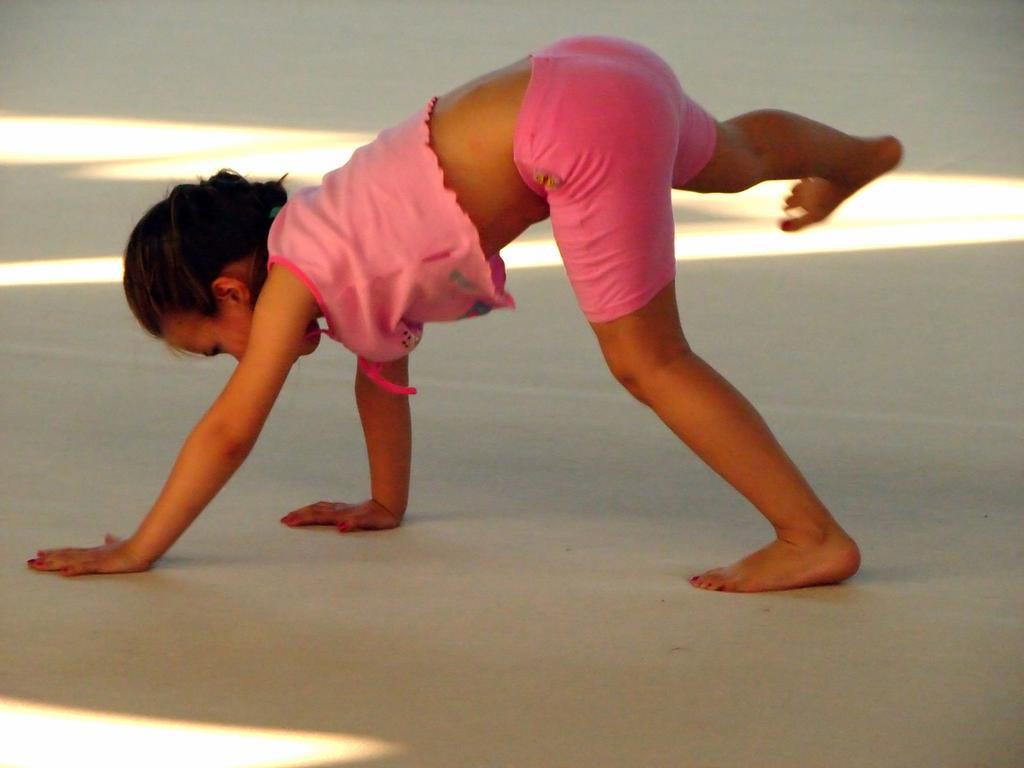face: (163, 277, 321, 367)
